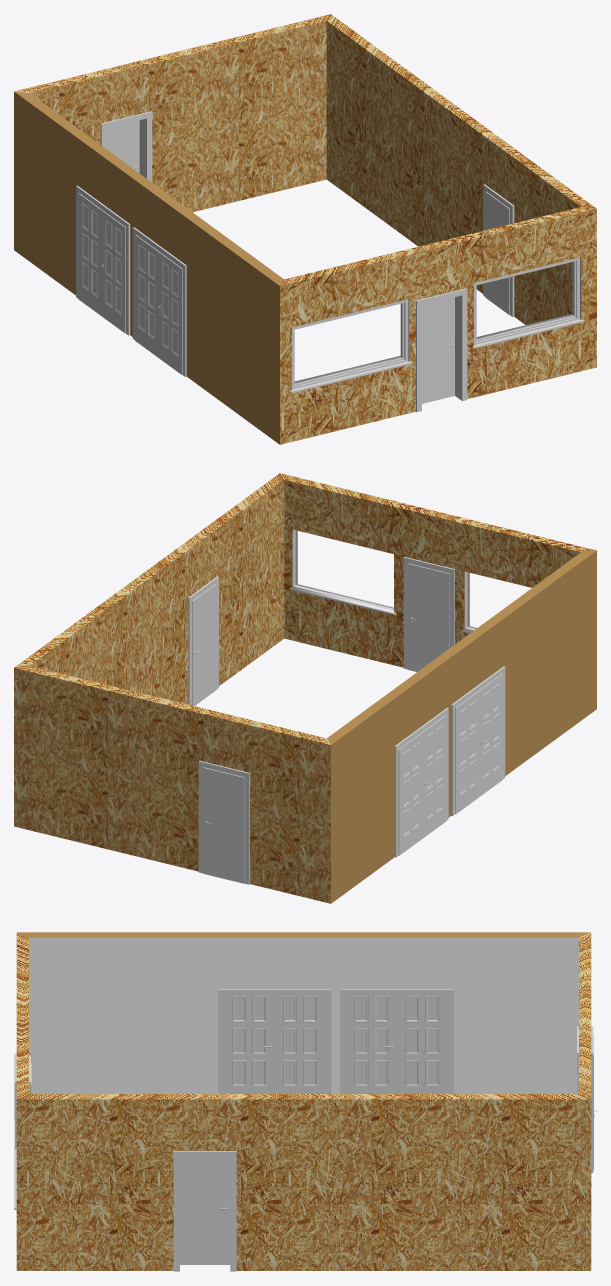
Rendered from coffeeshop.dae.
3 views of the same model, one above another, from view 1: azimuth 30°, elevation 25°; view 2: azimuth 150°, elevation 25°; view 3: azimuth 270°, elevation 25° (orthographic). The views are drawn at different scales.
Visible parts, largest first — view 1: Wall_Wall.003, Panel.005_Panel.007, Panel_Panel.004, Panel.002_Panel.003, Panel.003_Panel.005, Panel.001_Panel.002, Door.003_Door.004, Window_Window.001, Window.001_Window.002, Panel.006_Panel.008, Door.002_Door.003, Panel.004_Panel.006 (+3 smaller); view 2: Wall_Wall.003, Panel.004_Panel.006, Panel.005_Panel.007, Panel.002_Panel.003, Panel.003_Panel.005, Panel.006_Panel.008, Panel.001_Panel.002, Panel_Panel.004, Door.002_Door.003, Door.003_Door.004, Door_Door.001, Door.001_Door.002 (+2 smaller); view 3: Wall_Wall.003, Panel.006_Panel.008, Panel.002_Panel.003, Panel.003_Panel.005, Panel.001_Panel.002, Panel_Panel.004, Door_Door.001, Door.001_Door.002, Door.004_Door.005, Door.002_Door.003.
Boxes of the visible parts, bbox=[...] form: Wall_Wall.003: bbox=[14, 14, 596, 444]; Panel.005_Panel.007: bbox=[422, 297, 454, 403]; Panel_Panel.004: bbox=[158, 252, 182, 374]; Panel.002_Panel.003: bbox=[78, 193, 102, 316]; Panel.003_Panel.005: bbox=[135, 234, 158, 357]; Panel.001_Panel.002: bbox=[102, 210, 125, 333]; Door.003_Door.004: bbox=[416, 288, 467, 412]; Window_Window.001: bbox=[290, 299, 412, 393]; Window.001_Window.002: bbox=[472, 257, 584, 348]; Panel.006_Panel.008: bbox=[485, 191, 509, 314]; Door.002_Door.003: bbox=[100, 111, 152, 182]; Panel.004_Panel.006: bbox=[106, 120, 139, 173]; Wall_Wall.003: bbox=[14, 473, 596, 903]; Panel.004_Panel.006: bbox=[203, 767, 244, 883]; Panel.005_Panel.007: bbox=[408, 563, 449, 671]; Panel.002_Panel.003: bbox=[398, 732, 422, 855]; Panel.003_Panel.005: bbox=[455, 691, 479, 813]; Panel.006_Panel.008: bbox=[192, 584, 216, 705]; Panel.001_Panel.002: bbox=[422, 715, 446, 838]; Panel_Panel.004: bbox=[479, 673, 502, 796]; Door.002_Door.003: bbox=[198, 760, 249, 884]; Door.003_Door.004: bbox=[403, 557, 454, 669]; Door_Door.001: bbox=[394, 707, 448, 857]; Door.001_Door.002: bbox=[451, 666, 505, 815]; Wall_Wall.003: bbox=[16, 932, 591, 1270]; Panel.006_Panel.008: bbox=[180, 1157, 230, 1264]; Panel.002_Panel.003: bbox=[397, 995, 447, 1093]; Panel.003_Panel.005: bbox=[274, 995, 324, 1093]; Panel.001_Panel.002: bbox=[346, 995, 396, 1093]; Panel_Panel.004: bbox=[224, 995, 274, 1093]; Door_Door.001: bbox=[340, 989, 453, 1093]; Door.001_Door.002: bbox=[218, 989, 331, 1093]; Door.004_Door.005: bbox=[173, 1151, 236, 1271]; Door.002_Door.003: bbox=[577, 1026, 593, 1172].
Size of the model in its own units: 6.39 by 9.24 by 3.
11 materials, 1 textured.
